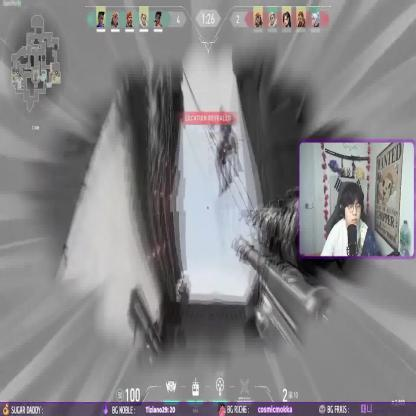enemy: (215, 103, 243, 197)
enemy_head: (218, 106, 228, 128)
